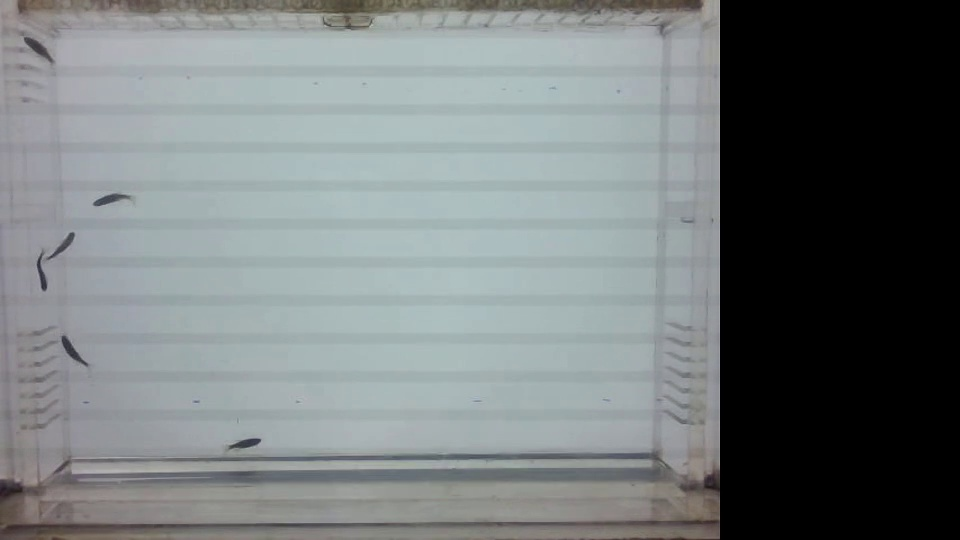fish: (52, 322, 92, 377), (212, 428, 270, 460), (24, 253, 54, 300), (41, 228, 80, 262), (18, 36, 57, 68), (82, 192, 140, 210)
